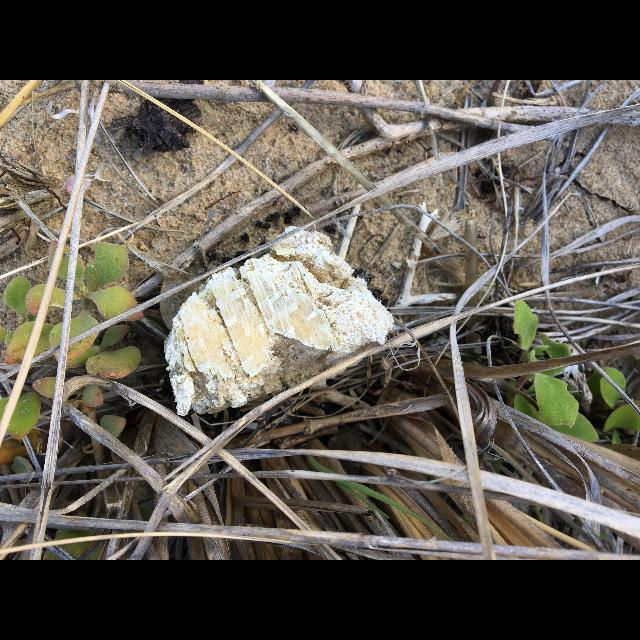Plastic: (165, 230, 395, 416)
